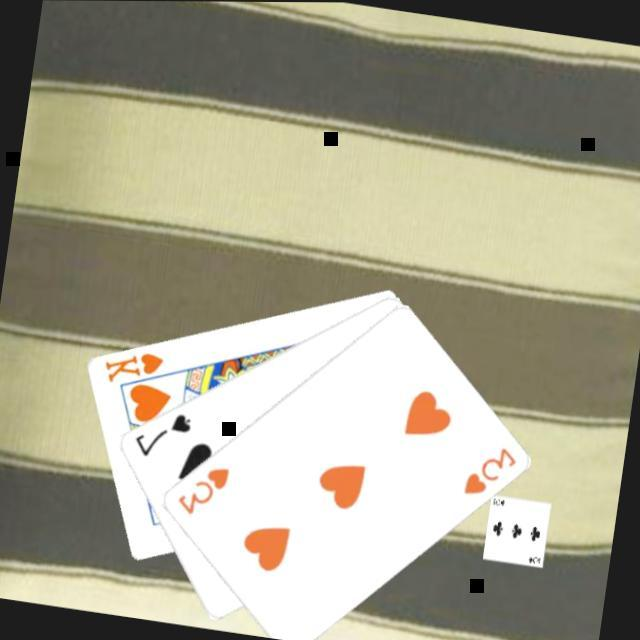3H: (459, 440, 522, 505), (172, 460, 234, 524)
7S: (129, 405, 196, 467)
KH: (99, 344, 168, 394)
